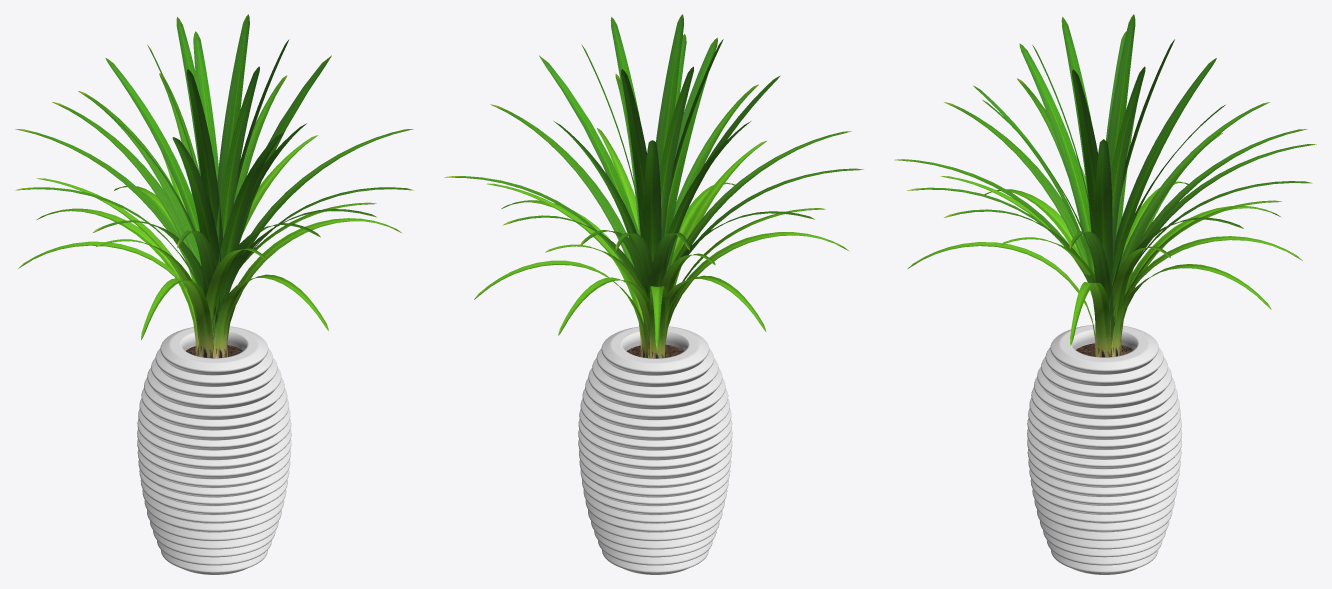
Rendered from Plant.obj.
3 views of the same model, side by side, from view 1: azimuth 30°, elevation 25°; view 2: azimuth 150°, elevation 25°; view 3: azimuth 270°, elevation 25° (orthographic).
Visible parts, largest first — view 1: 3dstylish02, 3dstylish01; view 2: 3dstylish01, 3dstylish02; view 3: 3dstylish02, 3dstylish01.
Part boxes in pixels (x1,y1,x2,y2): 3dstylish02: (15,14,414,358); 3dstylish01: (137,326,291,574); 3dstylish01: (578,326,732,574); 3dstylish02: (444,14,863,358); 3dstylish02: (894,14,1316,357); 3dstylish01: (1027,324,1182,574).
Bounding box in the file's own units: 69.52 × 94.2 × 70.06.
Materials: 3 (2 with a texture image).
